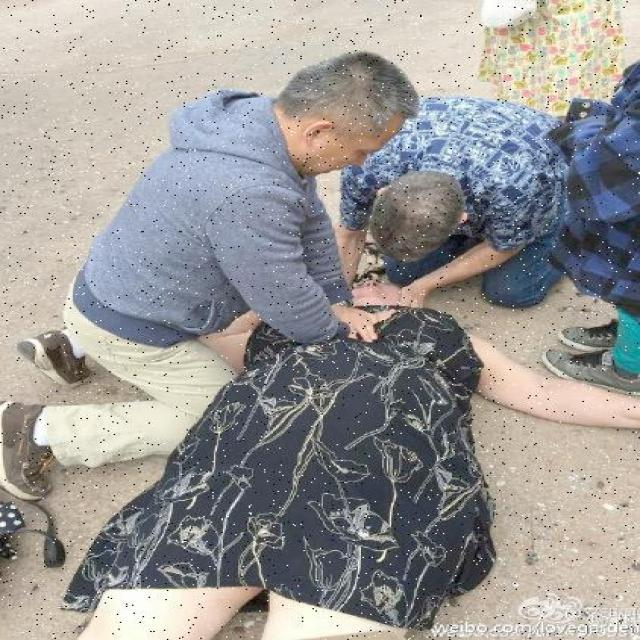fall: (114, 264, 499, 639)
